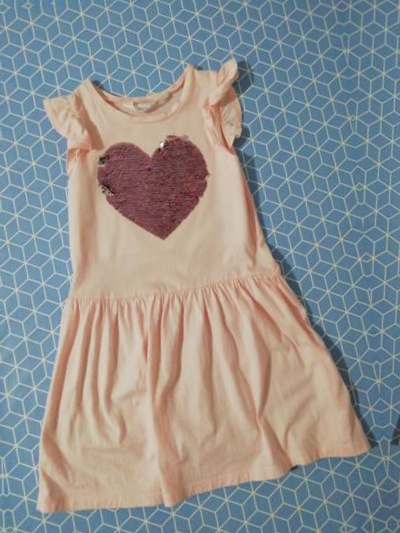Dress: (0, 35, 366, 530), (369, 0, 400, 494)
